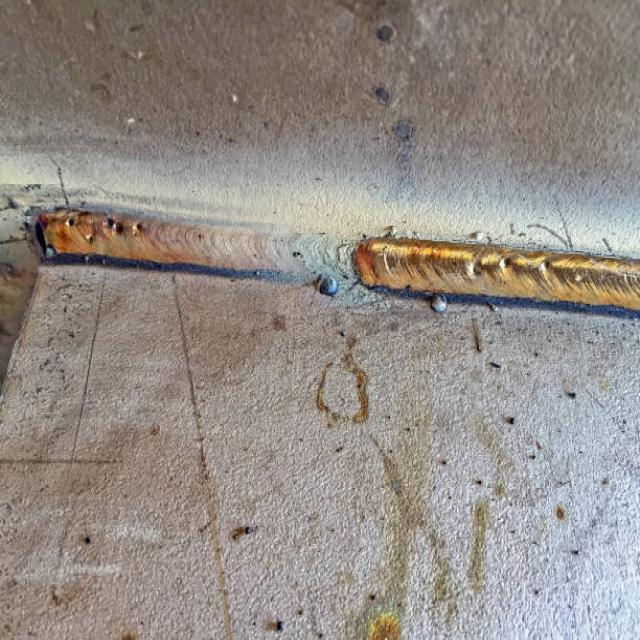Bad Welding: (43, 201, 639, 325)
Porosity: (62, 212, 144, 243), (491, 245, 552, 283)
